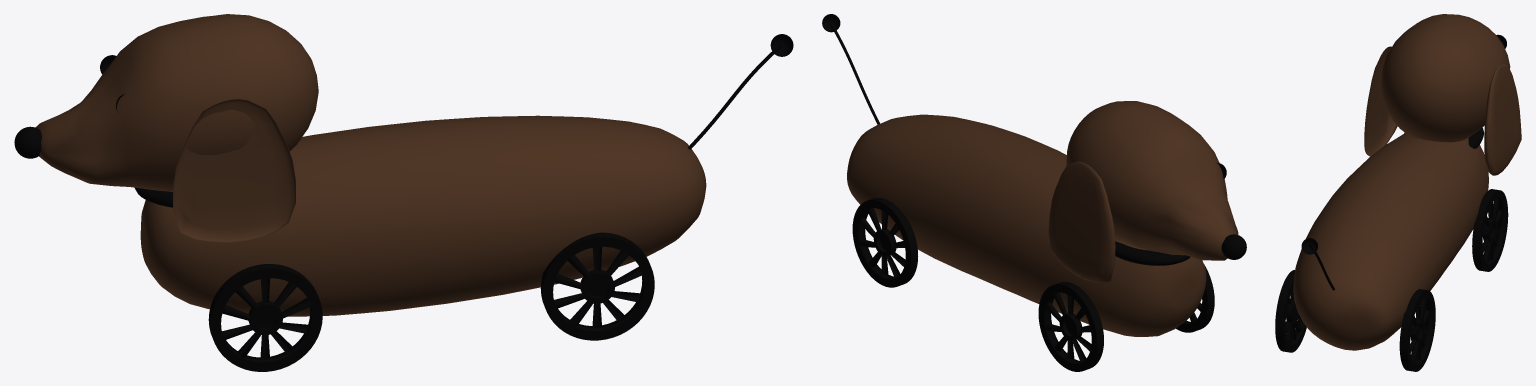
File: ToyObject_004.fbx
3 renders of one model, left to right at view 1: azimuth 30°, elevation 25°; view 2: azimuth 150°, elevation 25°; view 3: azimuth 270°, elevation 25°, orthographic. The views are drawn at different scales.
Visible parts, largest first — view 1: 1.049; view 2: 1.049; view 3: 1.049.
Part boxes in pixels (bbox=[...]): 1.049: bbox=[14, 14, 793, 371]; 1.049: bbox=[822, 14, 1246, 371]; 1.049: bbox=[1275, 14, 1521, 371].
Size of the model in its own units: 0.3553 by 0.1616 by 0.1605.
